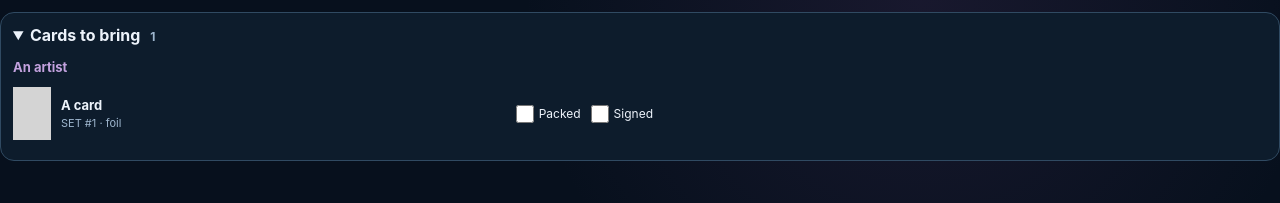
small artist bring checklist › reports a rejected save without claiming a checked state
This screenshot has width=1280, height=203.
Click the checkbox named "Packed:".
click(525, 114)  # box [516,104,534,122]
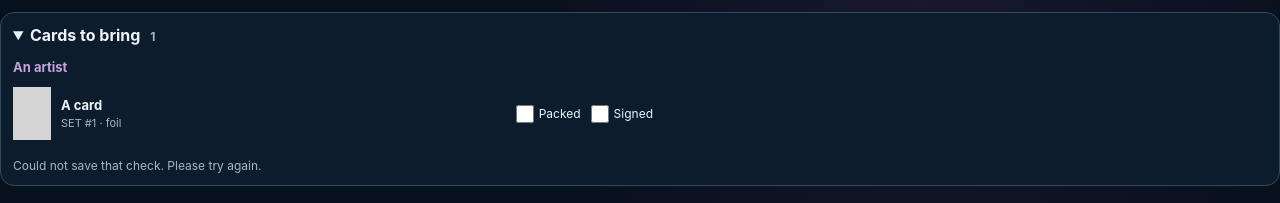
Result: the message "Could not save that check. Please try again." is shown at [13,158,262,173]
